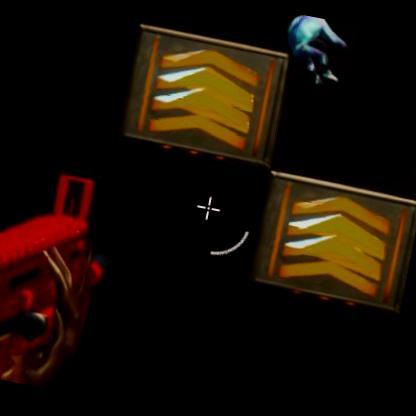person: (269, 10, 346, 72)
